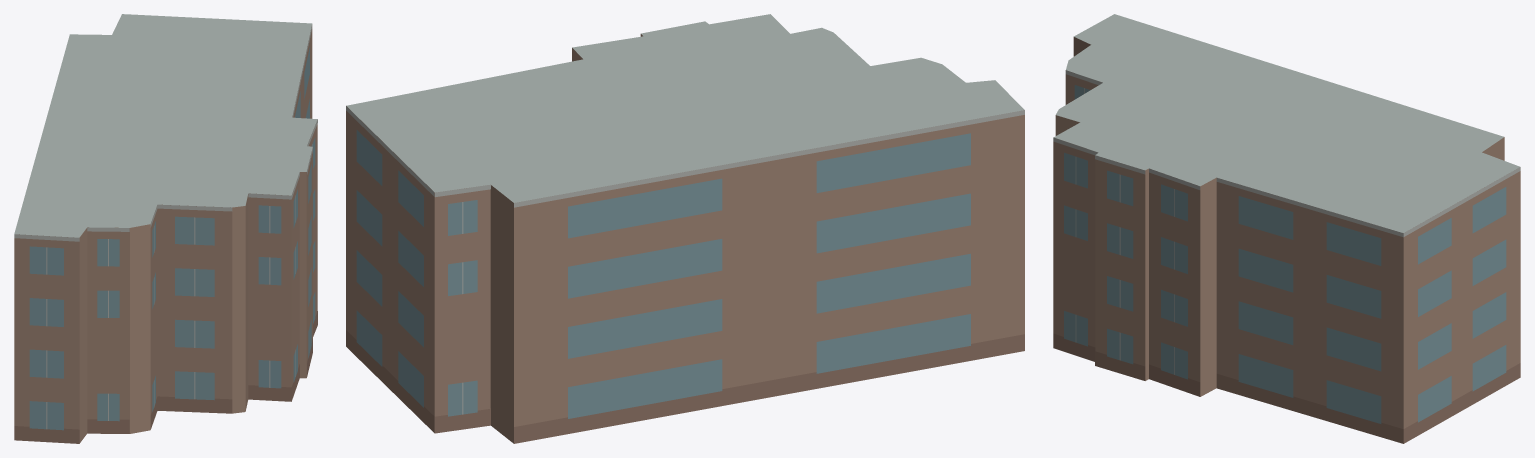
The model's file is survey-upis-32973446.glb.
3 renders of one model, left to right at view 1: azimuth 30°, elevation 25°; view 2: azimuth 150°, elevation 25°; view 3: azimuth 270°, elevation 25°, orthographic. The views are drawn at different scales.
Visible parts, largest first — view 1: survey-upis-32973446.tmp; view 2: survey-upis-32973446.tmp; view 3: survey-upis-32973446.tmp.
Boxes of the visible parts, <box> form: survey-upis-32973446.tmp: <box>14,14,317,443</box>; survey-upis-32973446.tmp: <box>346,14,1024,443</box>; survey-upis-32973446.tmp: <box>1053,14,1520,443</box>.
Bounding box in the file's own units: 28.12 × 12.6 × 25.32.
